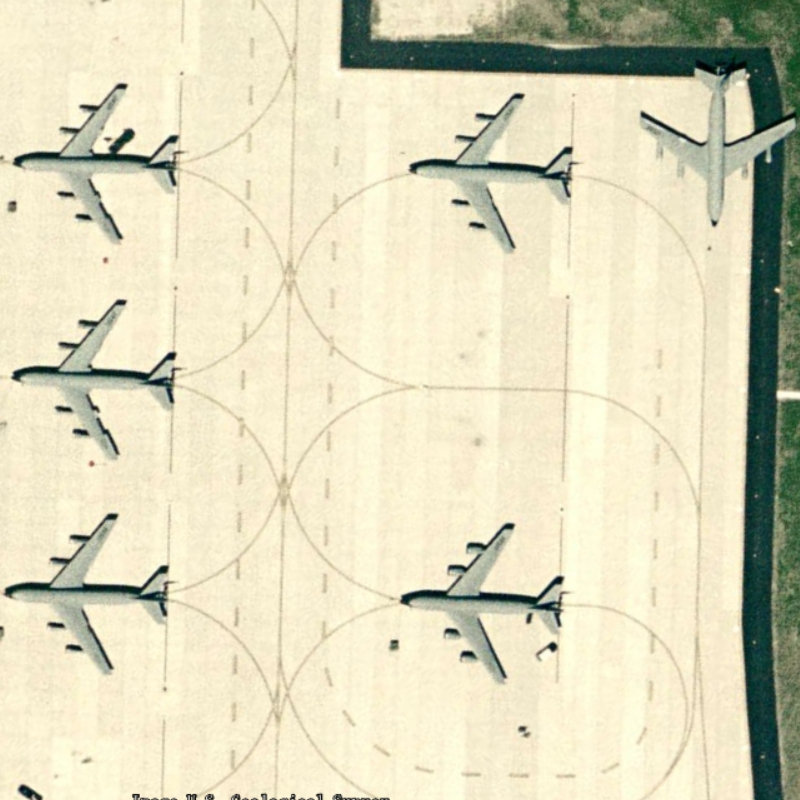A14: (400, 87, 582, 265), (3, 505, 174, 681), (15, 78, 184, 250), (13, 291, 181, 461), (636, 61, 800, 235), (397, 517, 567, 683)
